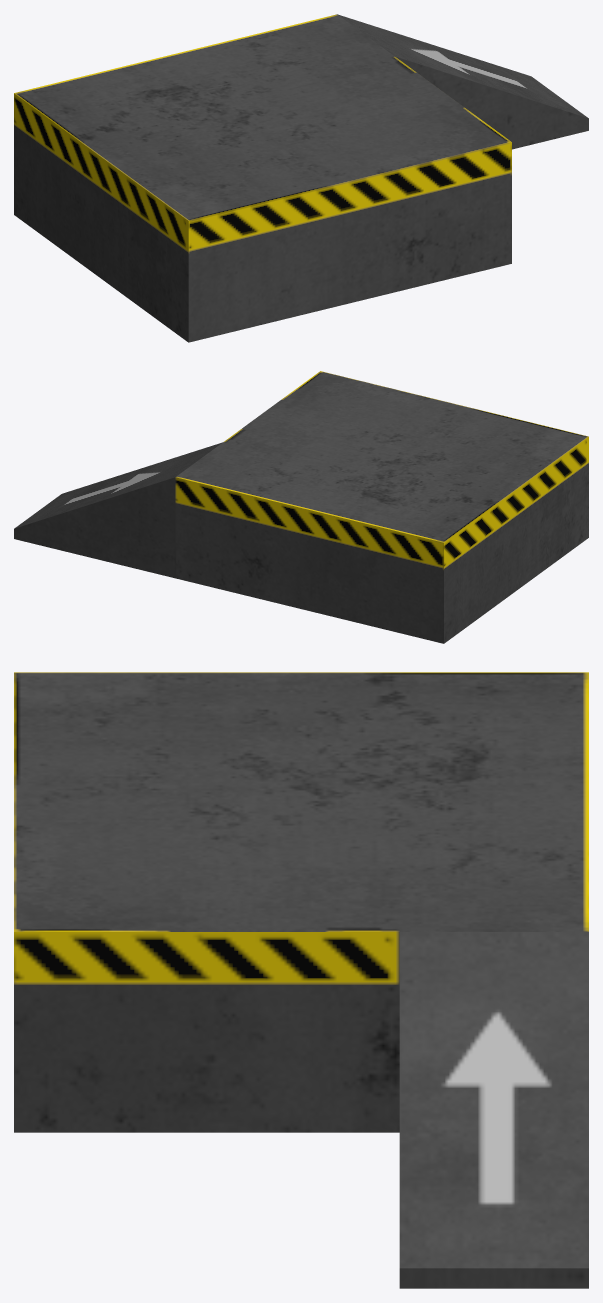
The model's file is concrete_block_1.fbx.
3 renders of one model, top to bottom at view 1: azimuth 30°, elevation 25°; view 2: azimuth 150°, elevation 25°; view 3: azimuth 270°, elevation 25°, orthographic. The views are drawn at different scales.
Parts seen in each view (by area): view 1: Plane.004, Plane.002; view 2: Plane.004, Plane.002; view 3: Plane.004, Plane.002.
Boxes of the visible parts, x1=… form: Plane.004: x1=14, y1=14, x2=511, y2=342; Plane.002: x1=338, y1=14, x2=588, y2=149; Plane.004: x1=175, y1=371, x2=588, y2=643; Plane.002: x1=14, y1=442, x2=222, y2=578; Plane.004: x1=14, y1=672, x2=588, y2=1132; Plane.002: x1=399, y1=932, x2=588, y2=1288.
Size of the model in its own units: 6634 by 1491 by 3877.
Materials: 1 (1 with a texture image).
